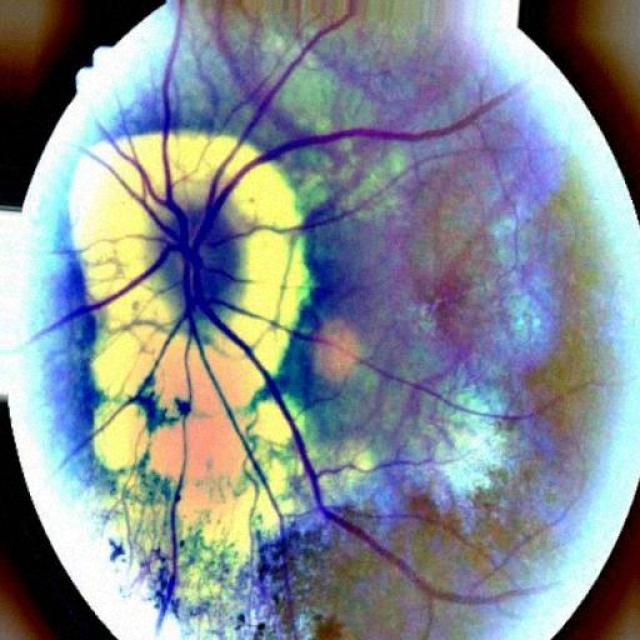Nerves: (39, 0, 511, 604), (160, 420, 189, 616)
